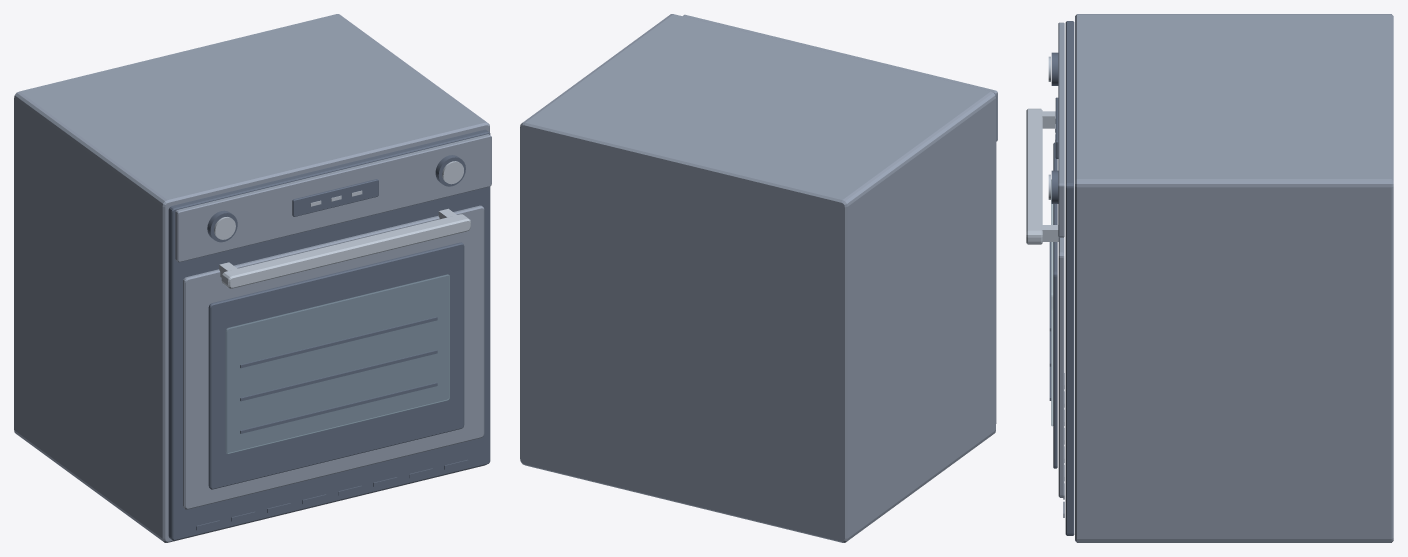
Rendered from steamoven-lite.glb.
The picture shows the model from 3 angles, left to right: view 1: azimuth 30°, elevation 25°; view 2: azimuth 150°, elevation 25°; view 3: azimuth 270°, elevation 25°; orthographic projection. The views are drawn at different scales.
Visible parts, largest first — view 1: body, dark, glass, light; view 2: body; view 3: body, dark, light, glass.
Boxes of the visible parts, <box> form: body: <box>14,14,491,542</box>; dark: <box>168,129,490,540</box>; glass: <box>225,274,449,453</box>; light: <box>214,161,470,288</box>; body: <box>520,14,997,542</box>; body: <box>1058,14,1393,542</box>; dark: <box>1049,21,1074,535</box>; light: <box>1026,56,1058,244</box>; glass: <box>1051,179,1053,426</box>.
Size of the model in its own units: 0.6 by 0.6 by 0.55.
